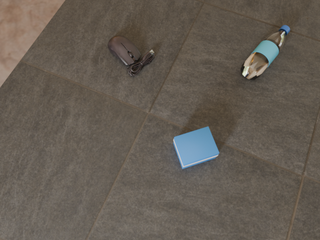bottle: (241, 25, 290, 80)
box: (174, 127, 219, 169)
mouse: (108, 36, 154, 76)
